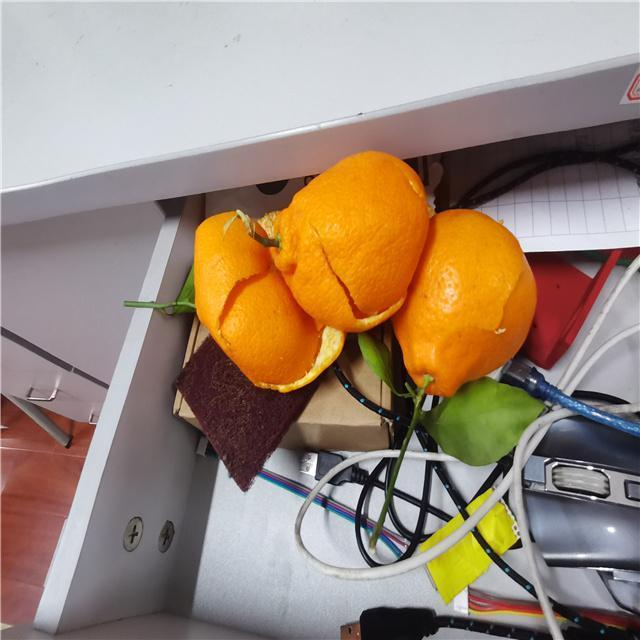orange peel: (184, 207, 347, 390), (271, 150, 433, 330), (391, 208, 538, 392)
